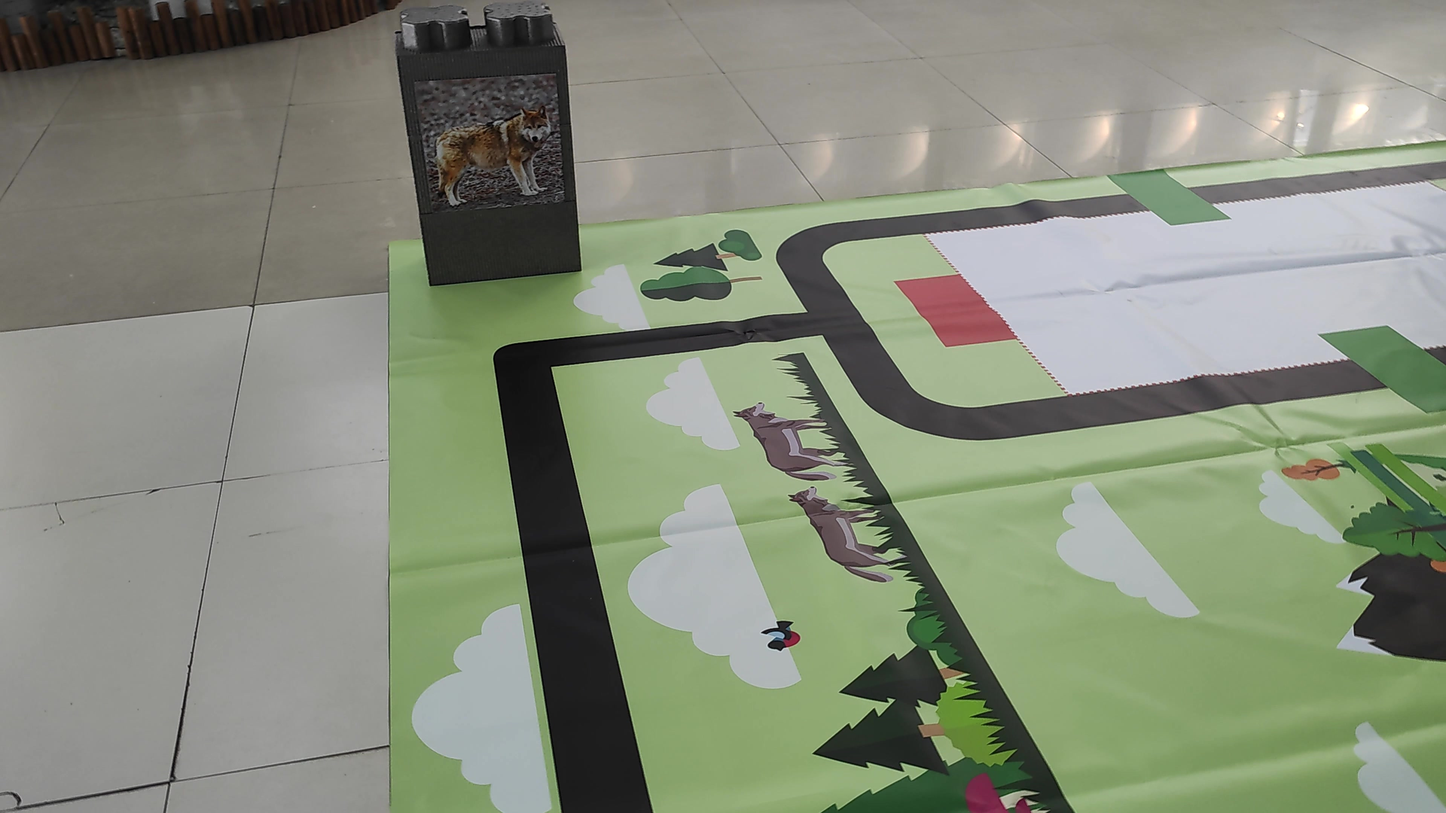wolf: (424, 75, 560, 214)
